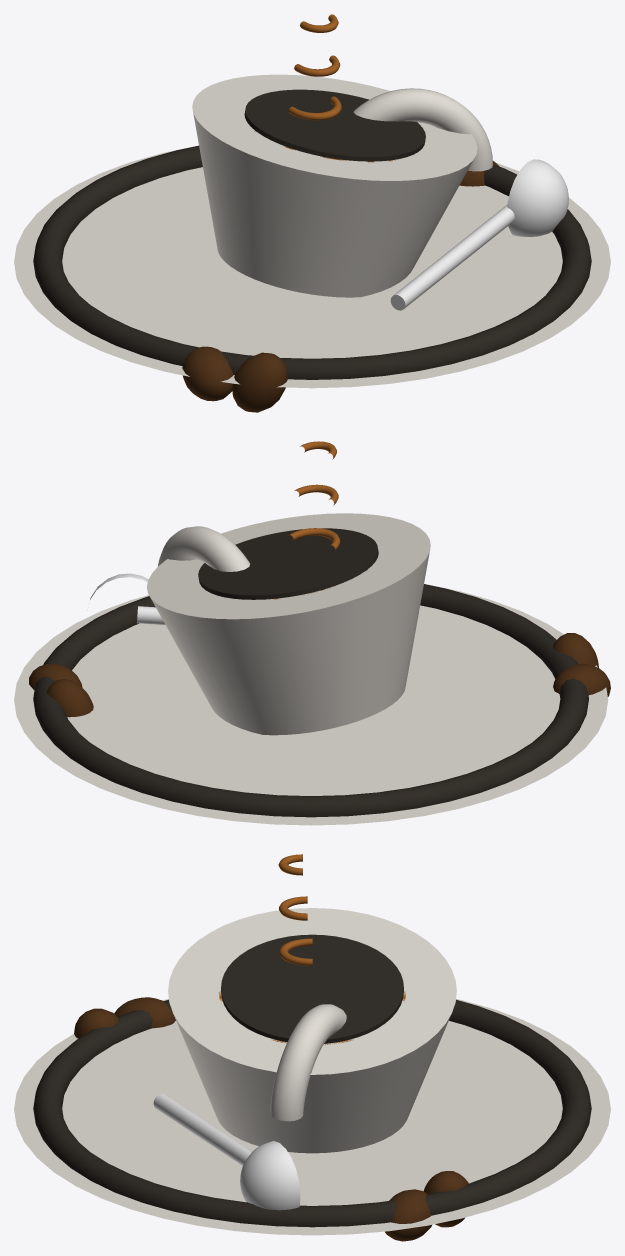
Rendered from demo-coffee-set.glb.
3 renders of one model, top to bottom at view 1: azimuth 30°, elevation 25°; view 2: azimuth 150°, elevation 25°; view 3: azimuth 270°, elevation 25°, orthographic.
Parts seen in each view (by area): view 1: Saucer, CupBody, SaucerRim, CupInner, CoffeeBean (×2), Handle, SpoonBowl, SpoonHandle, Steam; view 2: Saucer, CupBody, SaucerRim, CupInner, CoffeeBean (×4), Handle; view 3: Saucer, CupBody, SaucerRim, CupInner, Handle, CoffeeBean (×4), SpoonBowl, SpoonHandle, Steam.
Boxes of the visible parts, bbox=[...] form: Saucer: bbox=[14, 145, 610, 388]; CupBody: bbox=[192, 74, 477, 297]; SaucerRim: bbox=[33, 145, 591, 379]; CupInner: bbox=[244, 89, 425, 161]; CoffeeBean (×2): bbox=[182, 346, 287, 412]; Handle: bbox=[353, 88, 492, 171]; SpoonBowl: bbox=[507, 159, 568, 236]; SpoonHandle: bbox=[390, 205, 514, 310]; Steam: bbox=[288, 96, 341, 120]; Saucer: bbox=[14, 584, 608, 825]; CupBody: bbox=[147, 513, 430, 735]; SaucerRim: bbox=[33, 584, 588, 817]; CupInner: bbox=[198, 528, 378, 599]; CoffeeBean (×4): bbox=[29, 633, 610, 717]; Handle: bbox=[157, 526, 249, 571]; Saucer: bbox=[14, 999, 610, 1235]; CupBody: bbox=[168, 908, 456, 1153]; SaucerRim: bbox=[33, 999, 591, 1227]; CupInner: bbox=[221, 934, 403, 1043]; Handle: bbox=[270, 1004, 346, 1121]; CoffeeBean (×4): bbox=[74, 997, 468, 1241]; SpoonBowl: bbox=[240, 1141, 300, 1210]; SpoonHandle: bbox=[153, 1093, 251, 1165]; Steam: bbox=[279, 938, 312, 965].
Size of the model in its own units: 1.24 by 0.6441 by 1.24.
